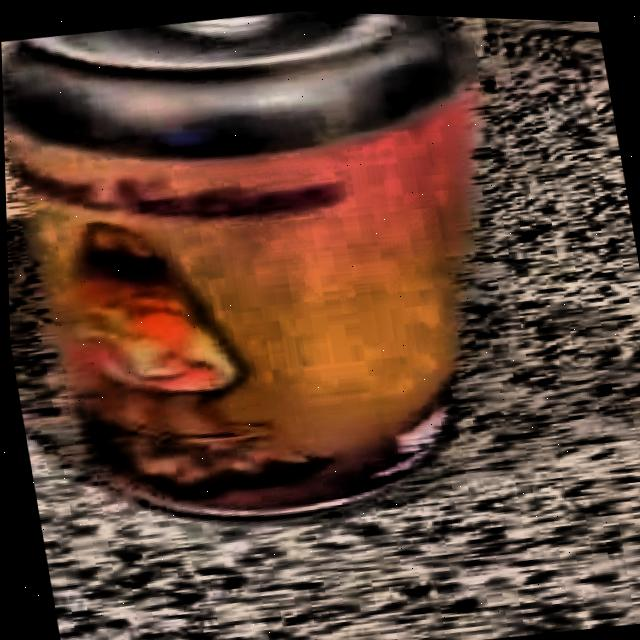metal: (0, 0, 562, 575)
